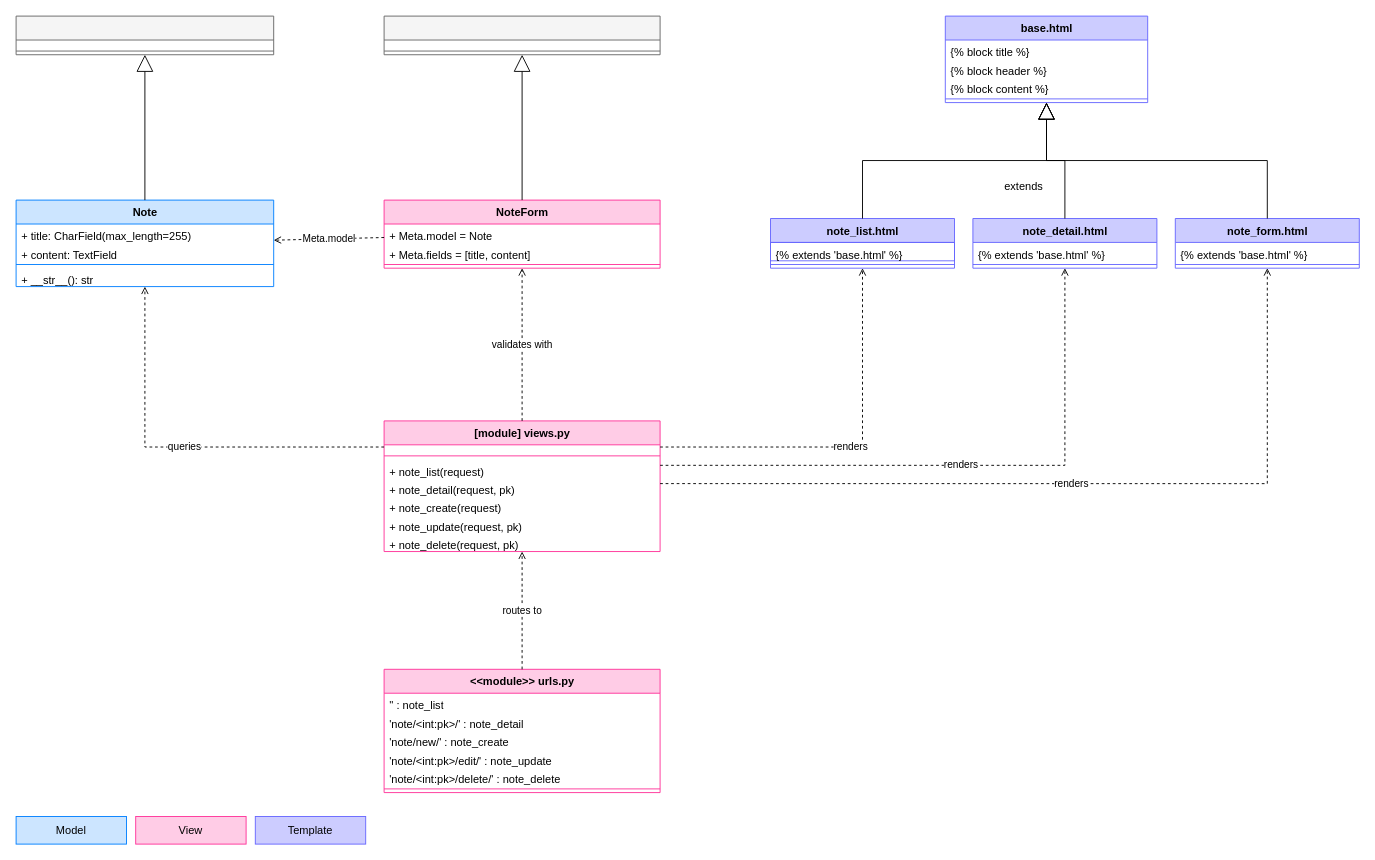
The diagram is 1375 pixels wide and 860 high, and some of its shapes have lost their labels. The centre of each missing label's shape, as x and y in pixels:
"[Django] forms.ModelForm" belongs at pixel 521 35.
"[Django] models.Model" belongs at pixel 144 35.
